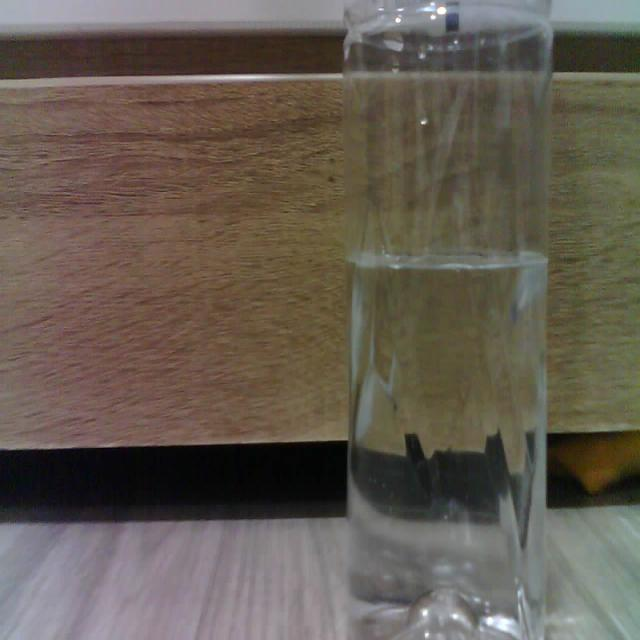bottle: (344, 0, 552, 639)
